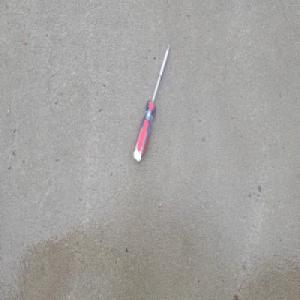Screwdriver: (132, 42, 171, 163)
